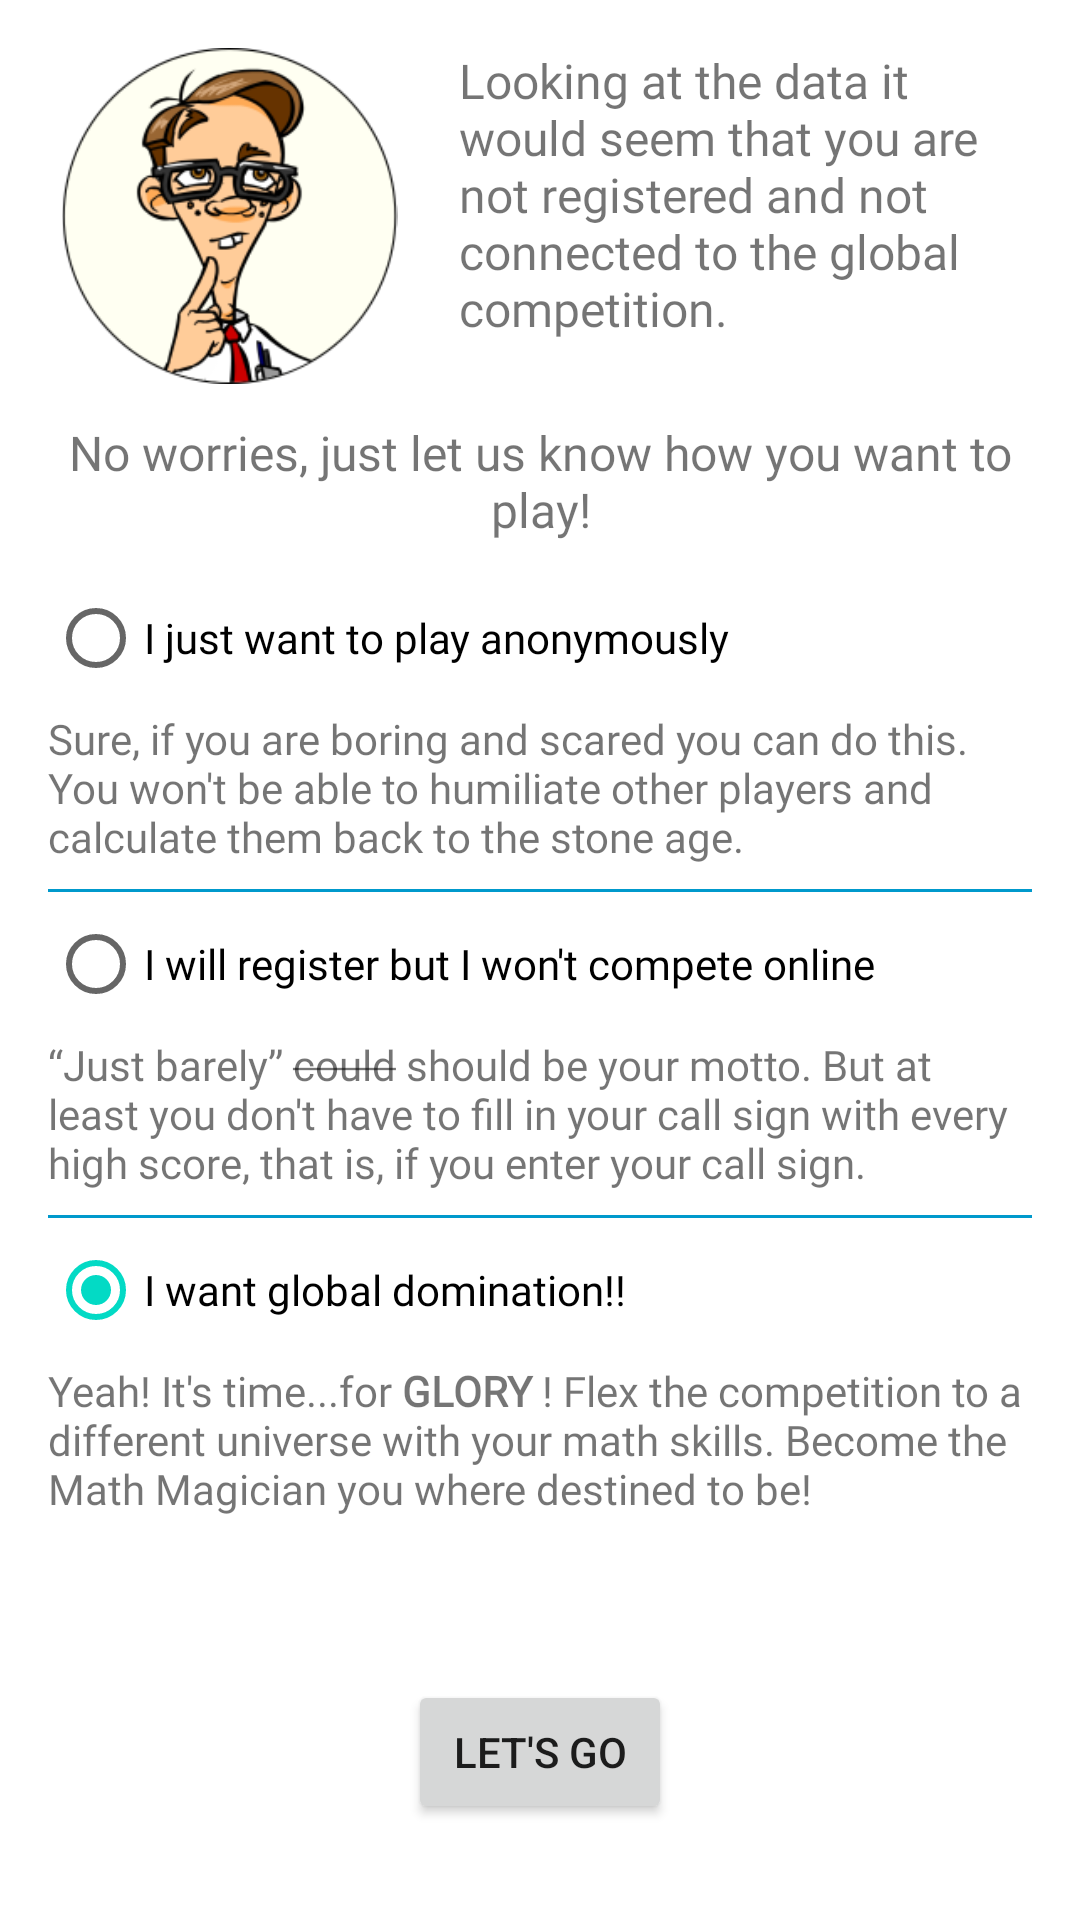

Icon bounding boxes for this 1080 × 1920 phone screenshot, format bbox=(x1, y1, x2, y2):
nerd: bbox=(62, 48, 398, 384)
